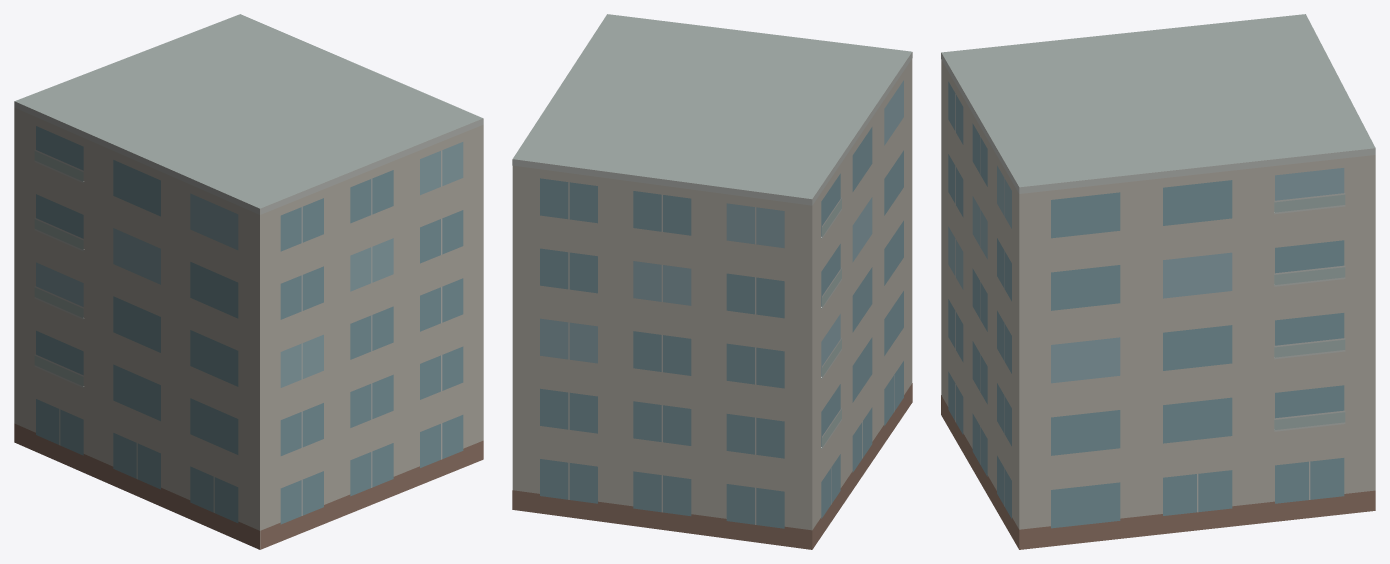
File: survey-upis-33045286.glb
3 views of the same model, side by side, from view 1: azimuth 30°, elevation 25°; view 2: azimuth 150°, elevation 25°; view 3: azimuth 270°, elevation 25° (orthographic). The views are drawn at different scales.
Visible parts, largest first — view 1: survey-upis-33045286.tmp; view 2: survey-upis-33045286.tmp; view 3: survey-upis-33045286.tmp.
Boxes of the visible parts, left/top/right/bottom form: survey-upis-33045286.tmp: left=14, top=14, right=483, bottom=549; survey-upis-33045286.tmp: left=512, top=14, right=912, bottom=549; survey-upis-33045286.tmp: left=941, top=14, right=1375, bottom=549.
Size of the model in its own units: 13.54 by 13.2 by 14.35.
